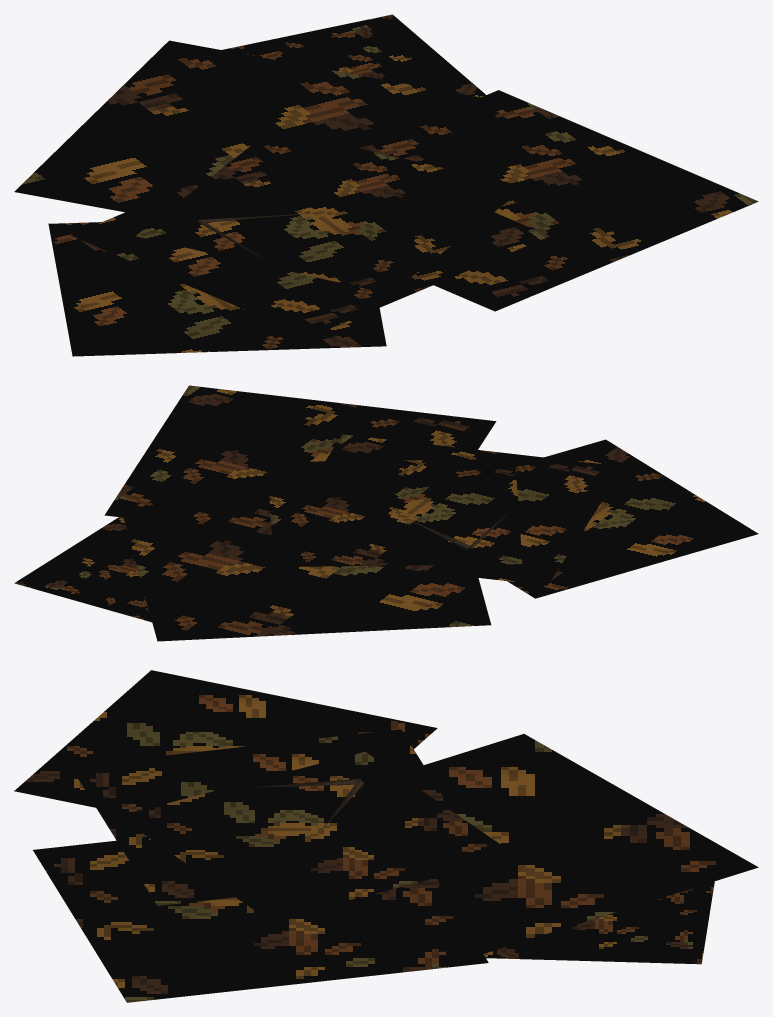
Rendered from park_leaves.glb.
3 renders of one model, top to bottom at view 1: azimuth 30°, elevation 25°; view 2: azimuth 150°, elevation 25°; view 3: azimuth 270°, elevation 25°, orthographic. The views are drawn at different scales.
Visible parts, largest first — view 1: litter; view 2: litter; view 3: litter.
Boxes of the visible parts, <box> form: litter: <box>14,14,758,356</box>; litter: <box>14,385,758,641</box>; litter: <box>14,670,758,1002</box>.
Bounding box in the file's own units: 2.8 × 0.028 × 2.66.
Materials: 2 (2 with a texture image).
